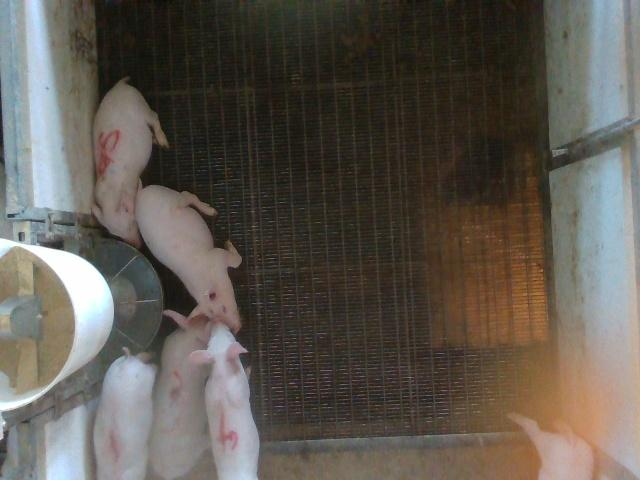pig-1: (94, 349, 155, 479)
pig-3: (149, 310, 211, 478)
pig-4: (190, 324, 259, 479)
pig-5: (91, 78, 169, 247)
